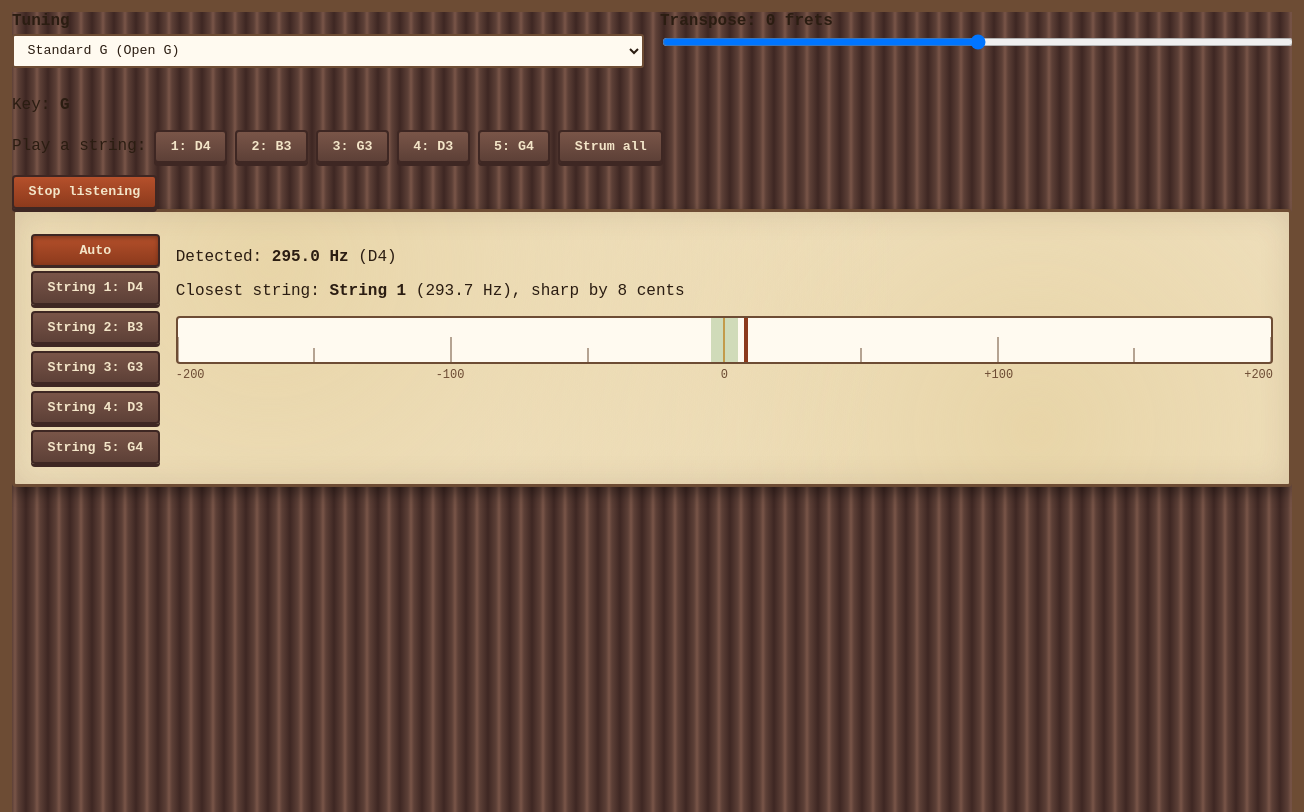
Test: TunerPanel string picker › compares against the picked string instead of the nearest one
Click the radio button labelled "String 3: G3" at (95, 368), box [31, 351, 160, 384]
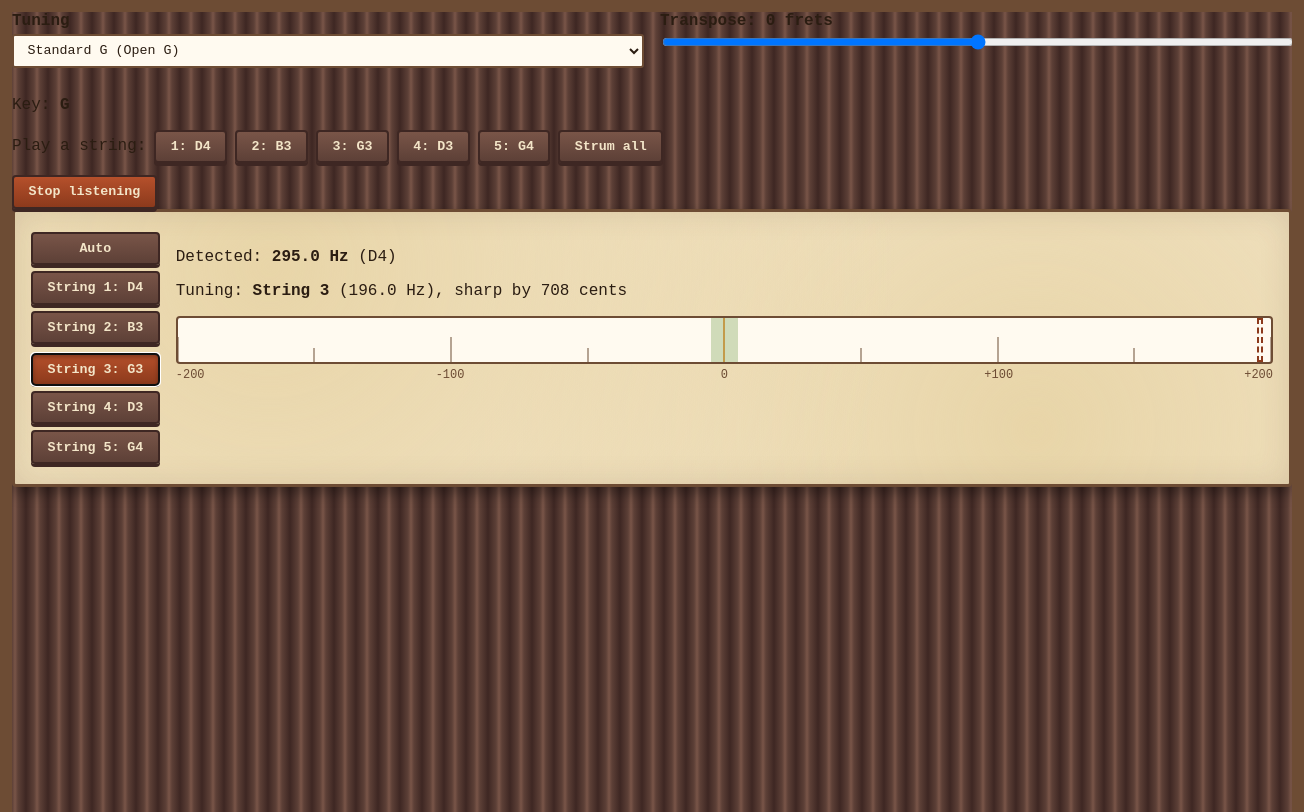
Result: the text "Tuning: String 3 (196.0 Hz), sharp by 708 cents" is shown at [176, 282, 627, 300]
